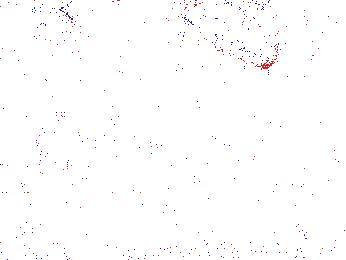moon jellyfish: (180, 1, 278, 70), (1, 27, 82, 101), (261, 1, 316, 91), (13, 129, 97, 176), (1, 1, 52, 53)
